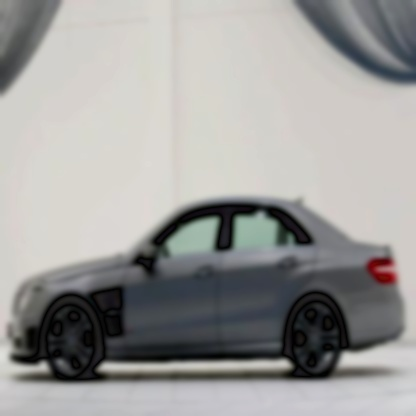Vehicle: (8, 197, 408, 382)
